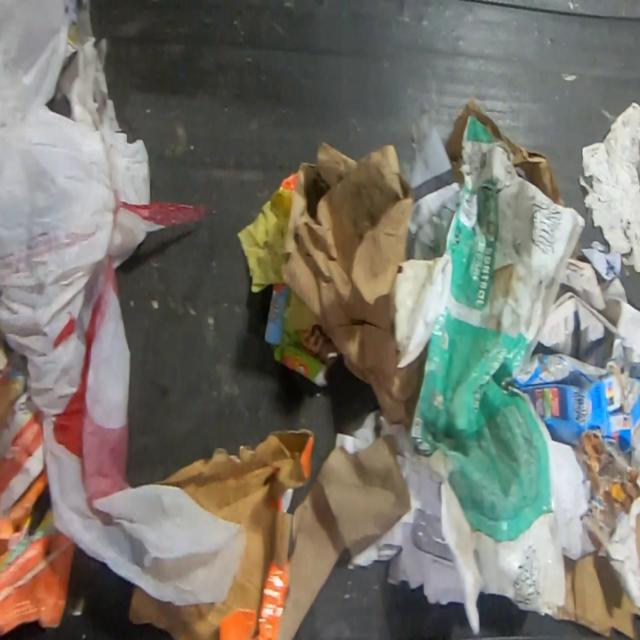cardboard: (128, 428, 412, 640), (283, 137, 422, 428), (503, 350, 639, 484), (444, 97, 568, 207), (549, 512, 640, 639), (263, 274, 329, 389)
metal: (280, 163, 302, 192)
soft_plastic: (0, 0, 246, 607)
